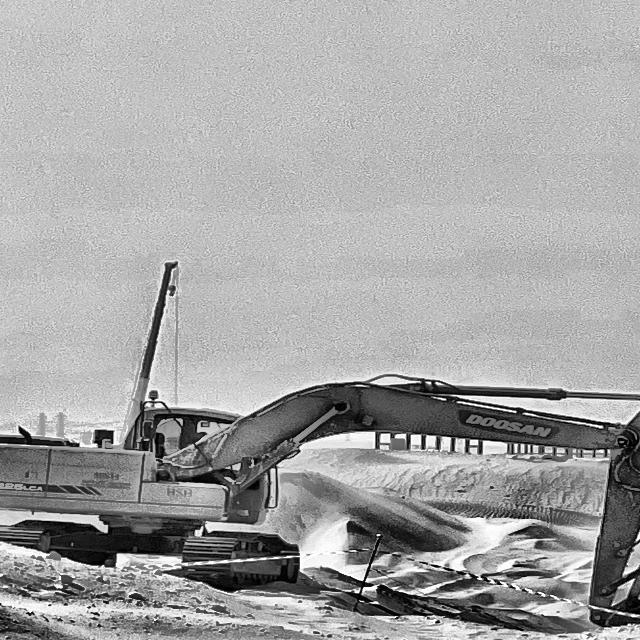excavator: (0, 359, 640, 624)
